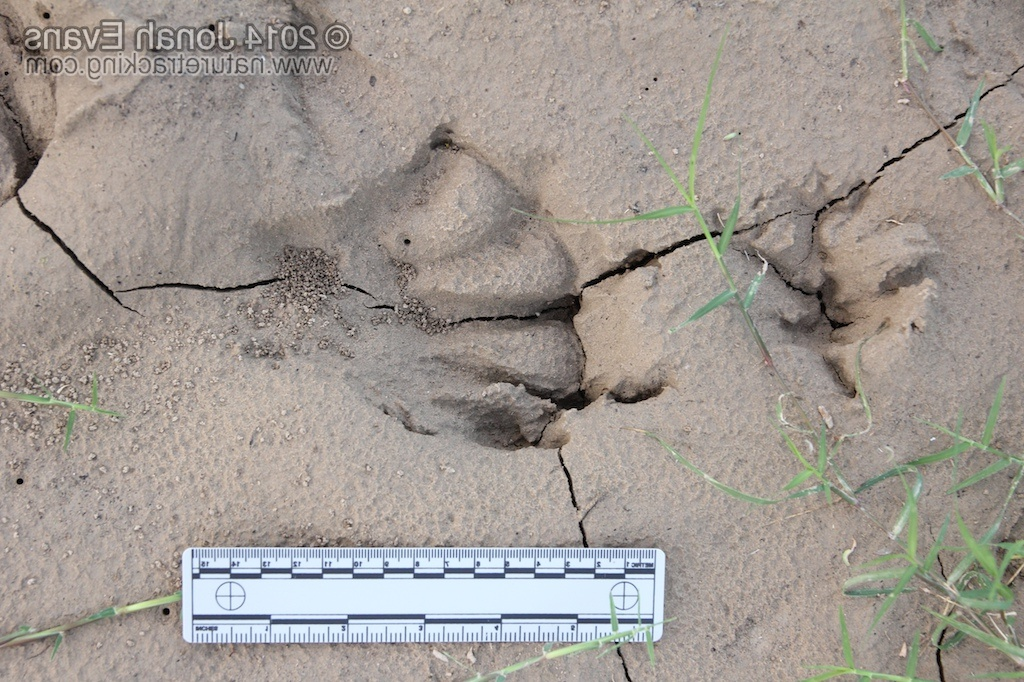beaver: (211, 54, 698, 491)
